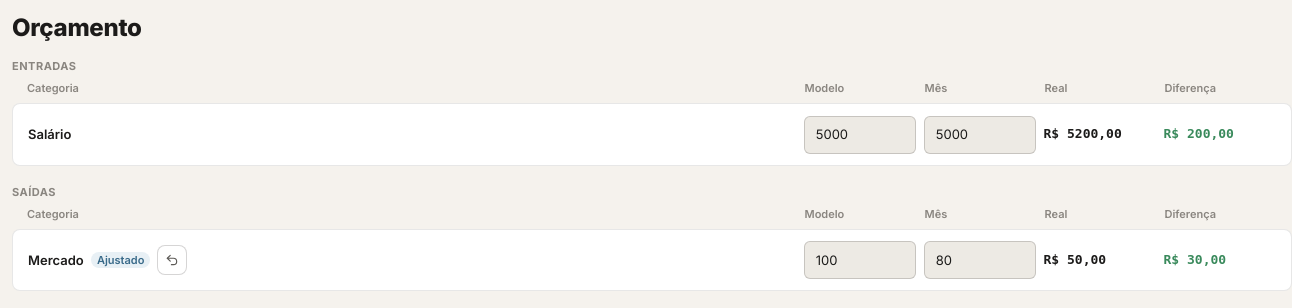
FinanceBudgetPage › saves the template amount when editing the model column
The width and height of the screenshot is (1292, 308).
Replace the text in the number field named "Modelo de Mercado" with "150" at [860, 260], box [804,241,916,279]
Then press Enter
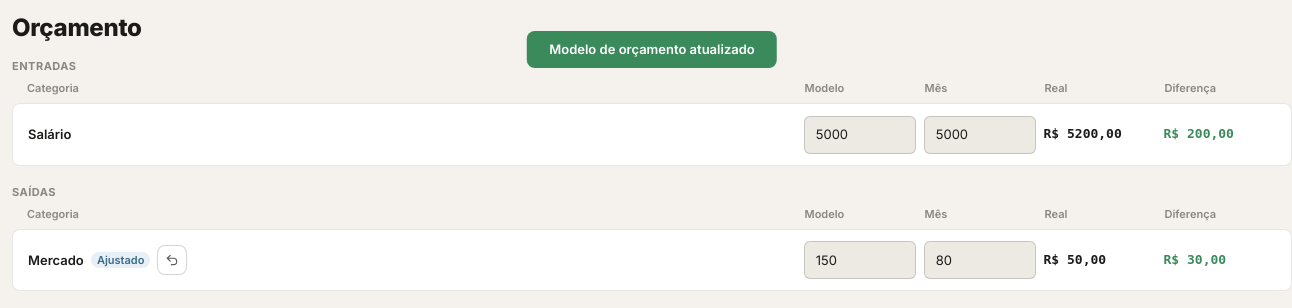
expect the message reads "Modelo de orçamento atualizado": met, box [549,41,755,57]
